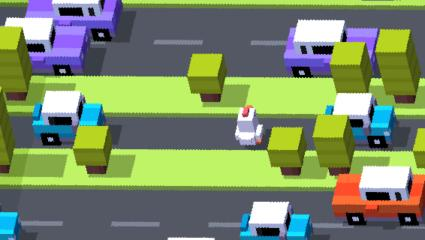hen: (235, 104, 266, 147)
obstacle: (283, 20, 386, 77), (332, 168, 422, 227), (12, 18, 87, 77), (325, 92, 398, 148), (26, 0, 124, 40), (31, 91, 102, 145), (241, 201, 313, 239), (374, 33, 416, 98), (314, 114, 356, 167), (329, 43, 371, 95), (0, 29, 29, 102), (189, 54, 226, 101), (75, 124, 110, 173), (268, 128, 306, 168), (0, 119, 15, 174), (0, 212, 20, 239), (396, 96, 417, 104), (328, 168, 350, 175)
